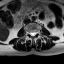CCS_normal: (31, 30, 33, 38)
LFS_normal: (36, 29, 38, 36)
LLS_normal: (33, 29, 36, 37)
RFS_normal: (27, 29, 29, 36)
RLS_normal: (29, 29, 31, 37)
